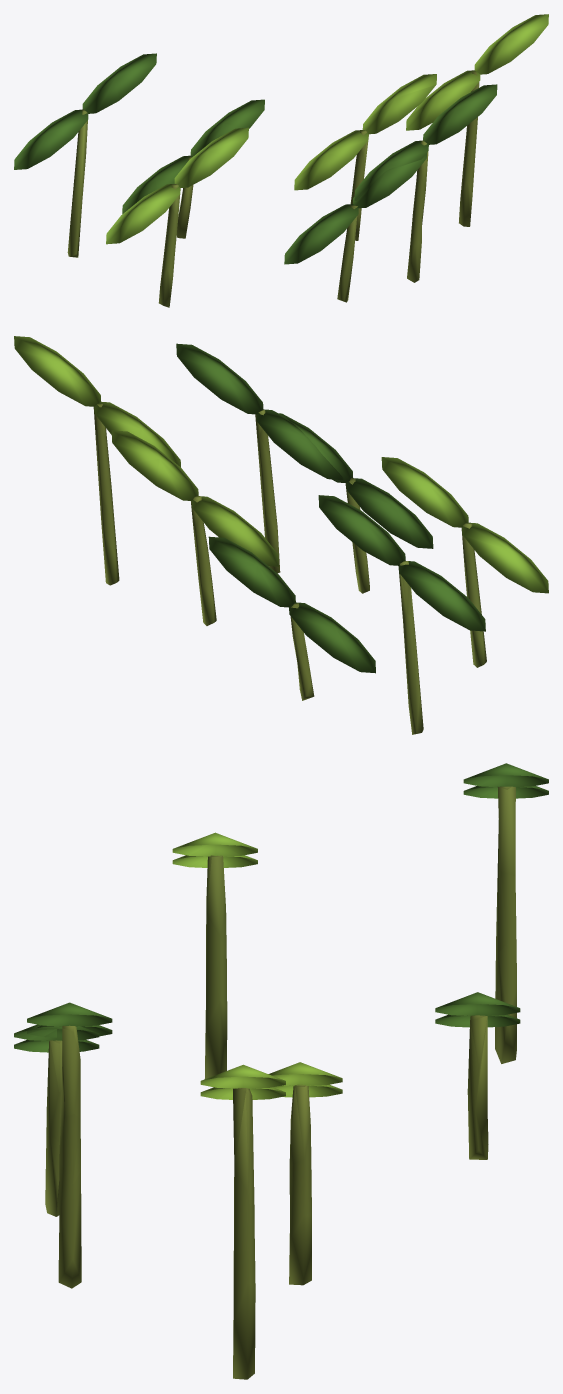
The model's file is mire_gc_sprouts_lod1.glb.
3 views of the same model, one above another, from view 1: azimuth 30°, elevation 25°; view 2: azimuth 150°, elevation 25°; view 3: azimuth 270°, elevation 25° (orthographic). The views are drawn at different scales.
Visible parts, largest first — view 1: mire_gc_sprouts.001; view 2: mire_gc_sprouts.001; view 3: mire_gc_sprouts.001.
Part boxes in pixels (x1,y1,x2,y2): mire_gc_sprouts.001: (14,14,548,307); mire_gc_sprouts.001: (14,336,548,734); mire_gc_sprouts.001: (14,763,548,1379).
Size of the model in its own units: 3.86 by 1.51 by 1.91.
